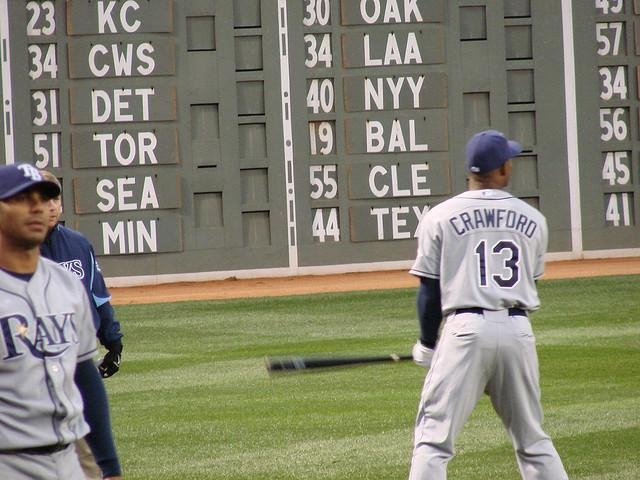person: (405, 130, 580, 480), (38, 168, 134, 480), (1, 163, 92, 480)
